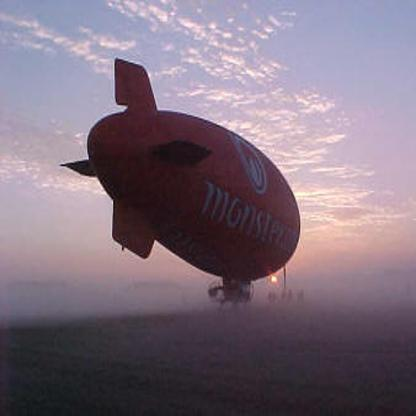Airship: (60, 53, 309, 312)
